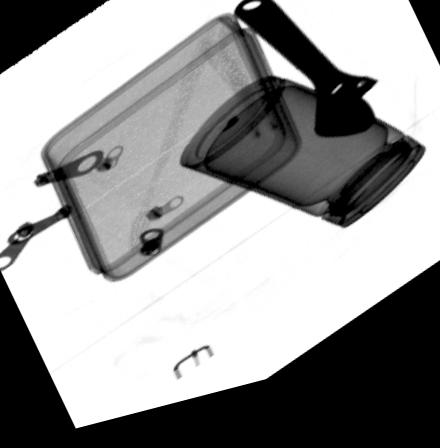Wrench: (232, 4, 384, 159)
